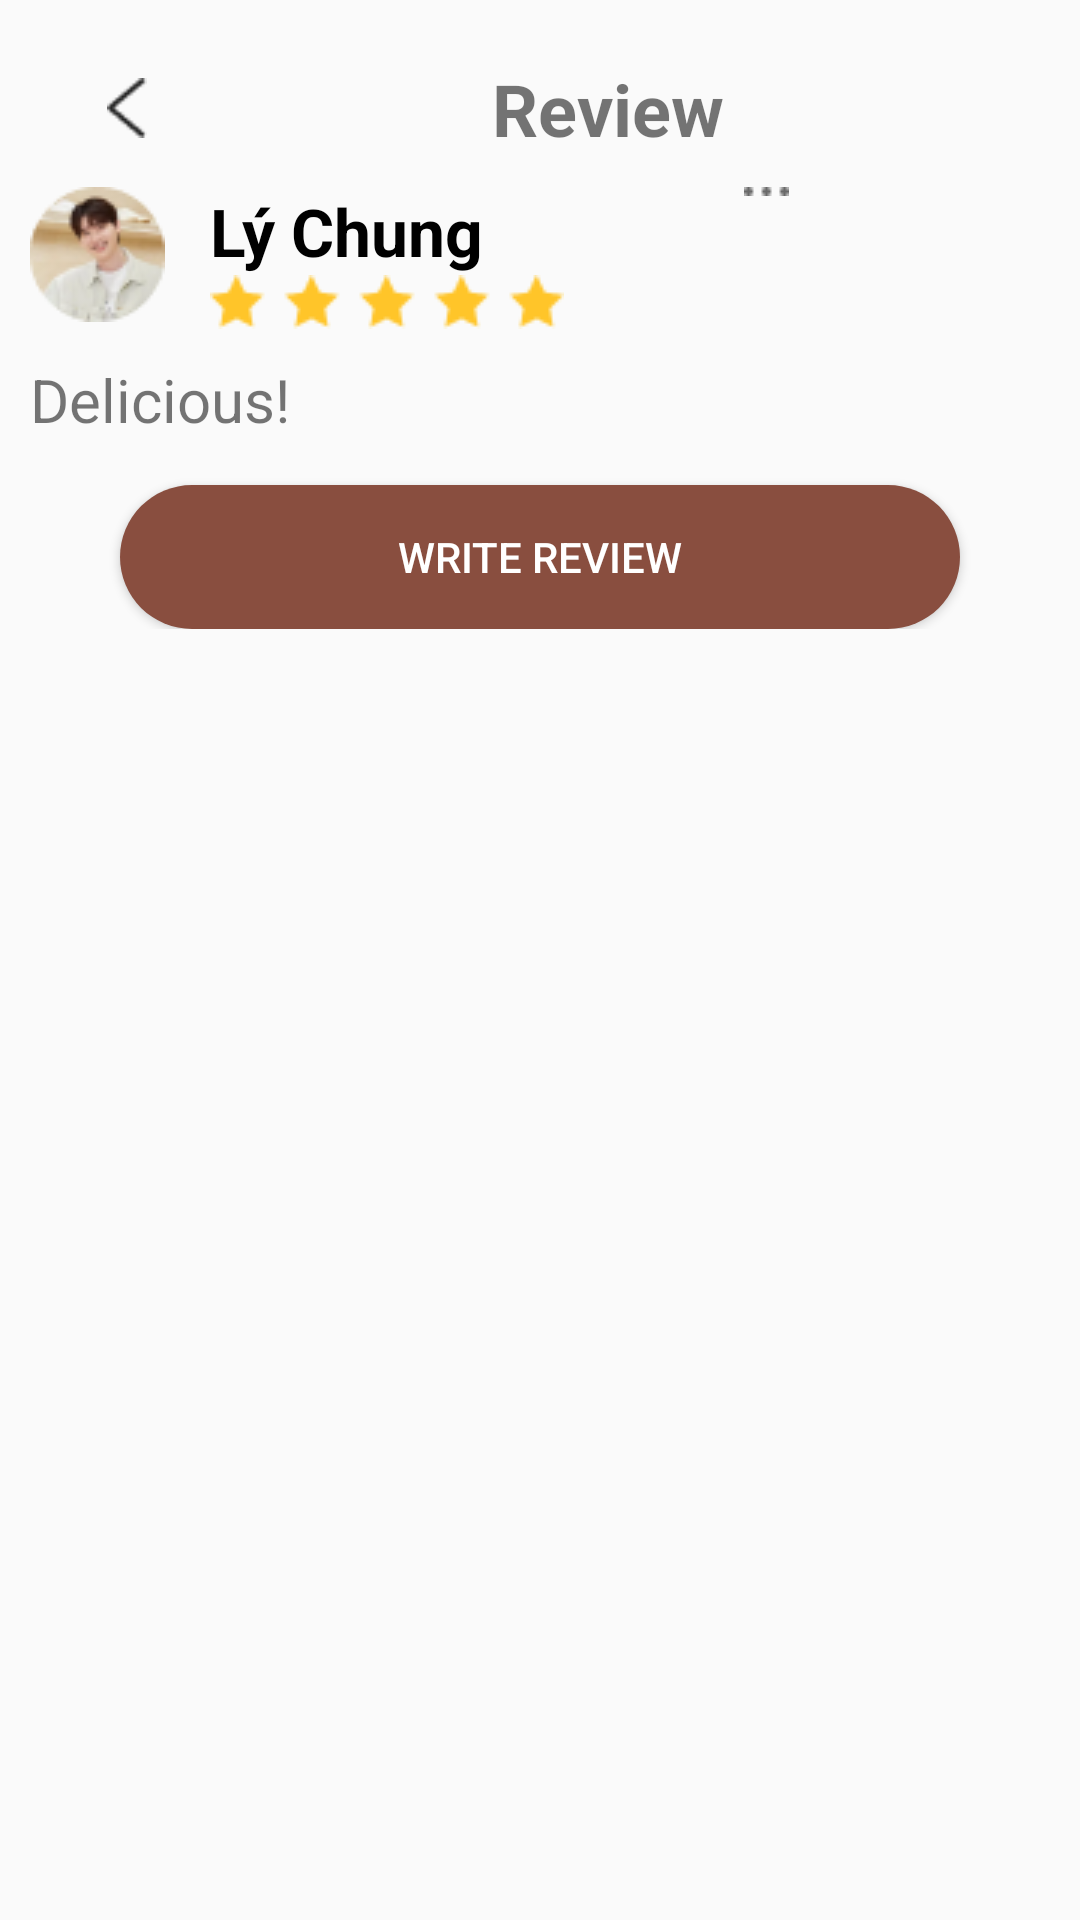

Icons on this 1080px×1920px Android screen, each with the point to tap as point (x, y):
back: point (127, 108)
